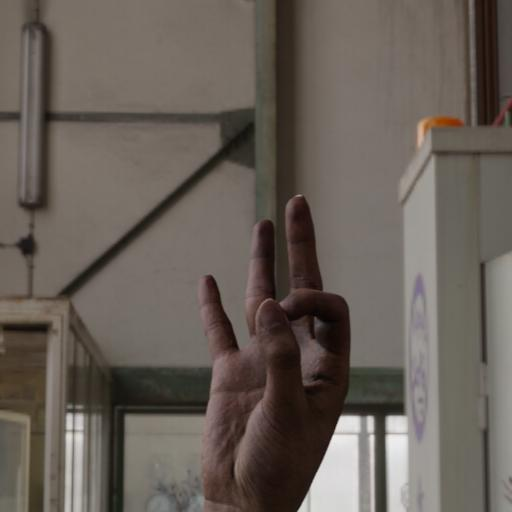F: (173, 182, 365, 512)
